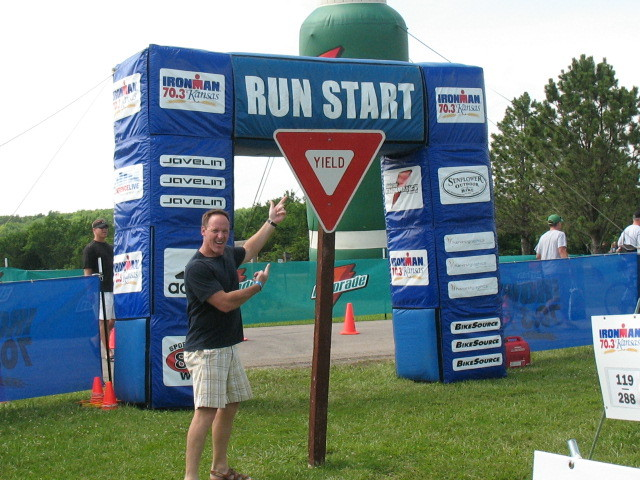yield_sign: (272, 128, 388, 234)
